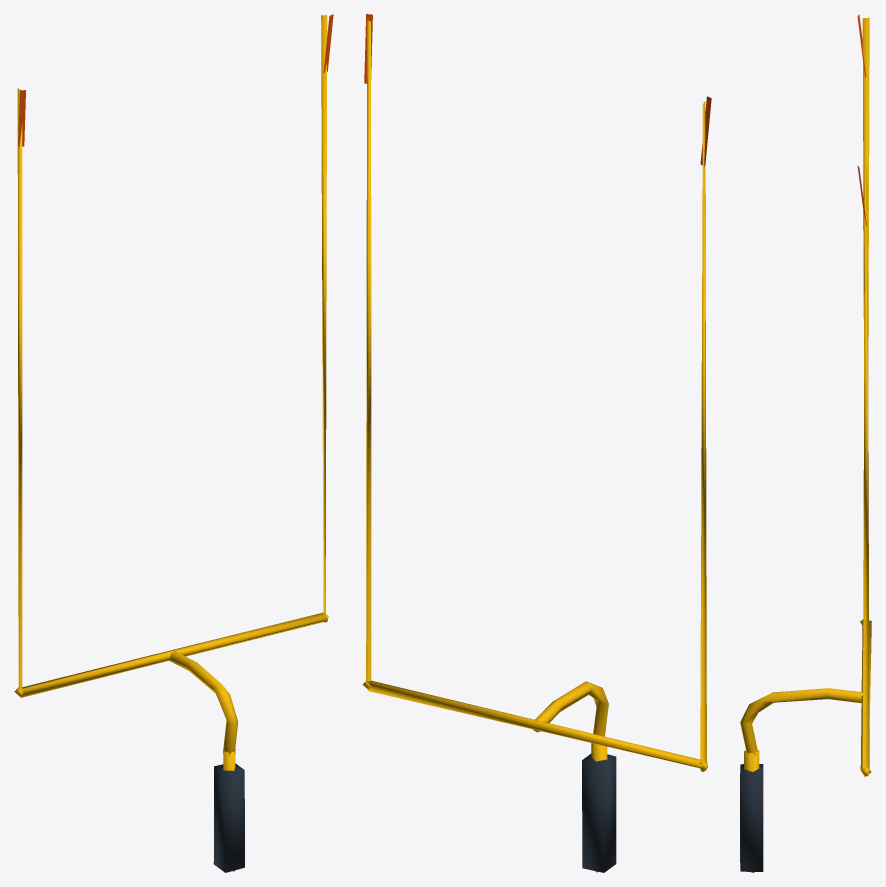
The model's file is goalpost_nfl_lod2.glb.
The picture shows the model from 3 angles, left to right: view 1: azimuth 30°, elevation 25°; view 2: azimuth 150°, elevation 25°; view 3: azimuth 270°, elevation 25°; orthographic projection. The views are drawn at different scales.
Visible parts, largest first — view 1: goalpost_nfl__prop_gold, goalpost_nfl__tint_team_primary, goalpost_nfl__prop_orange; view 2: goalpost_nfl__prop_gold, goalpost_nfl__tint_team_primary; view 3: goalpost_nfl__prop_gold, goalpost_nfl__tint_team_primary.
Boxes of the visible parts, x1=… form: goalpost_nfl__prop_gold: x1=14, y1=15, x2=328, y2=871; goalpost_nfl__tint_team_primary: x1=213, y1=763, x2=244, y2=872; goalpost_nfl__prop_orange: x1=18, y1=14, x2=333, y2=146; goalpost_nfl__prop_gold: x1=362, y1=20, x2=708, y2=872; goalpost_nfl__tint_team_primary: x1=582, y1=754, x2=616, y2=872; goalpost_nfl__prop_gold: x1=740, y1=17, x2=871, y2=872; goalpost_nfl__tint_team_primary: x1=740, y1=764, x2=763, y2=871.
Size of the model in its own units: 5.83 by 13.76 by 2.11.
